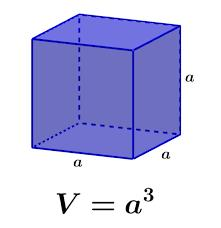cubos: (29, 10, 188, 164)
